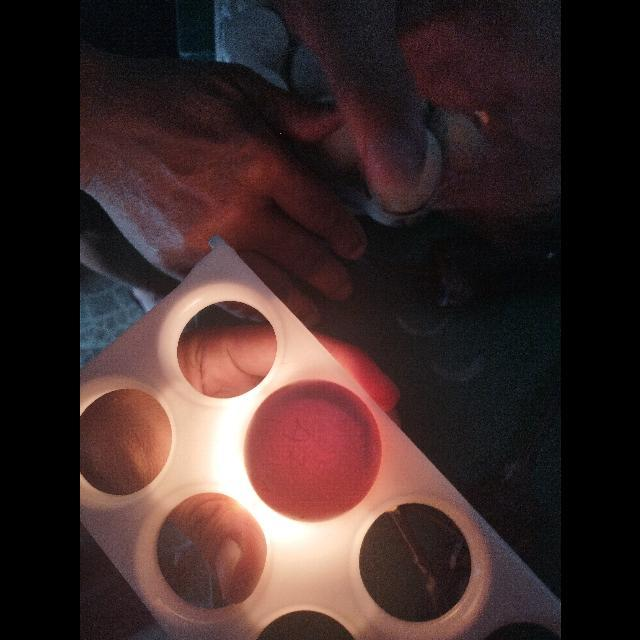Infertile: (241, 378, 383, 524)
